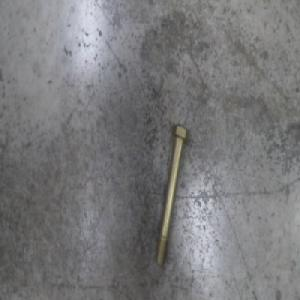Bolt: (154, 122, 189, 267)
